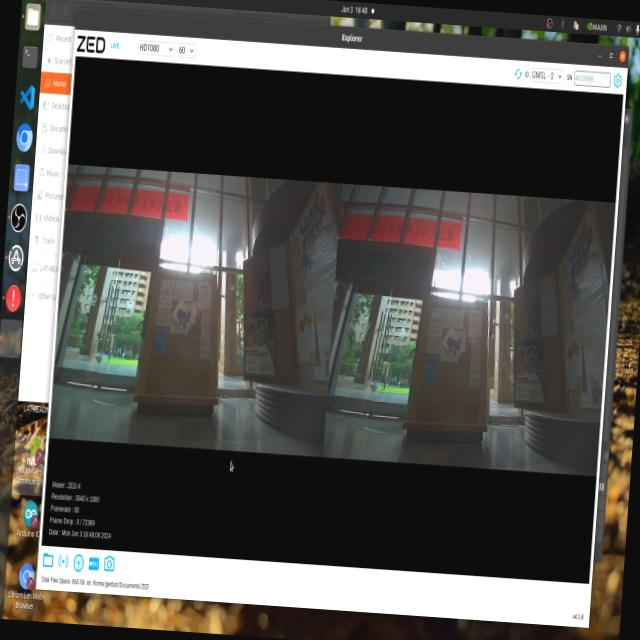blue: (168, 304, 202, 338), (442, 334, 468, 364)
